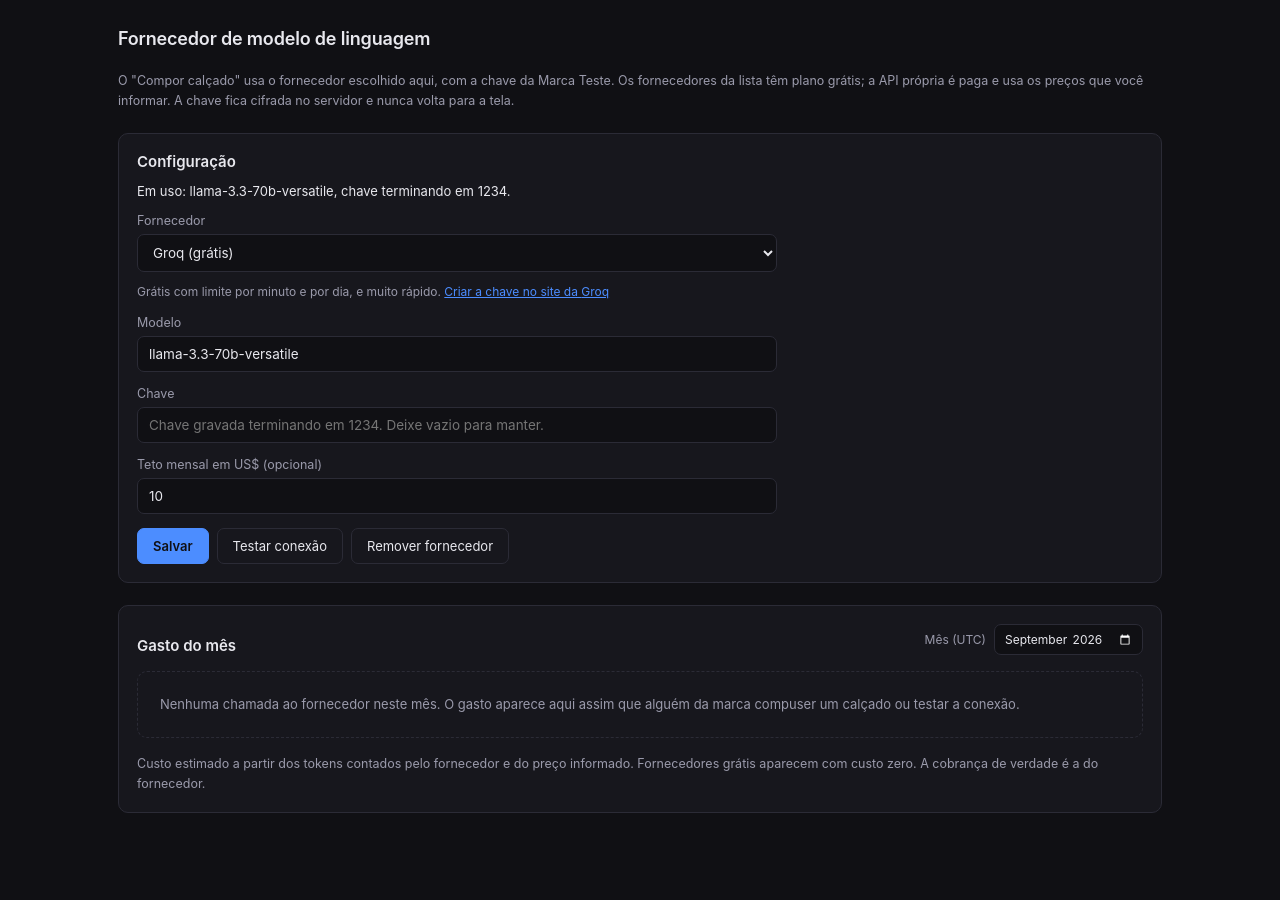
Test: TelaDoFornecedor › a falha do teste aparece com a mensagem do servidor e a configuração continua na tela
Click the button "Testar conexão" at [280, 546], box top-left (217, 528), bottom-right (343, 564)
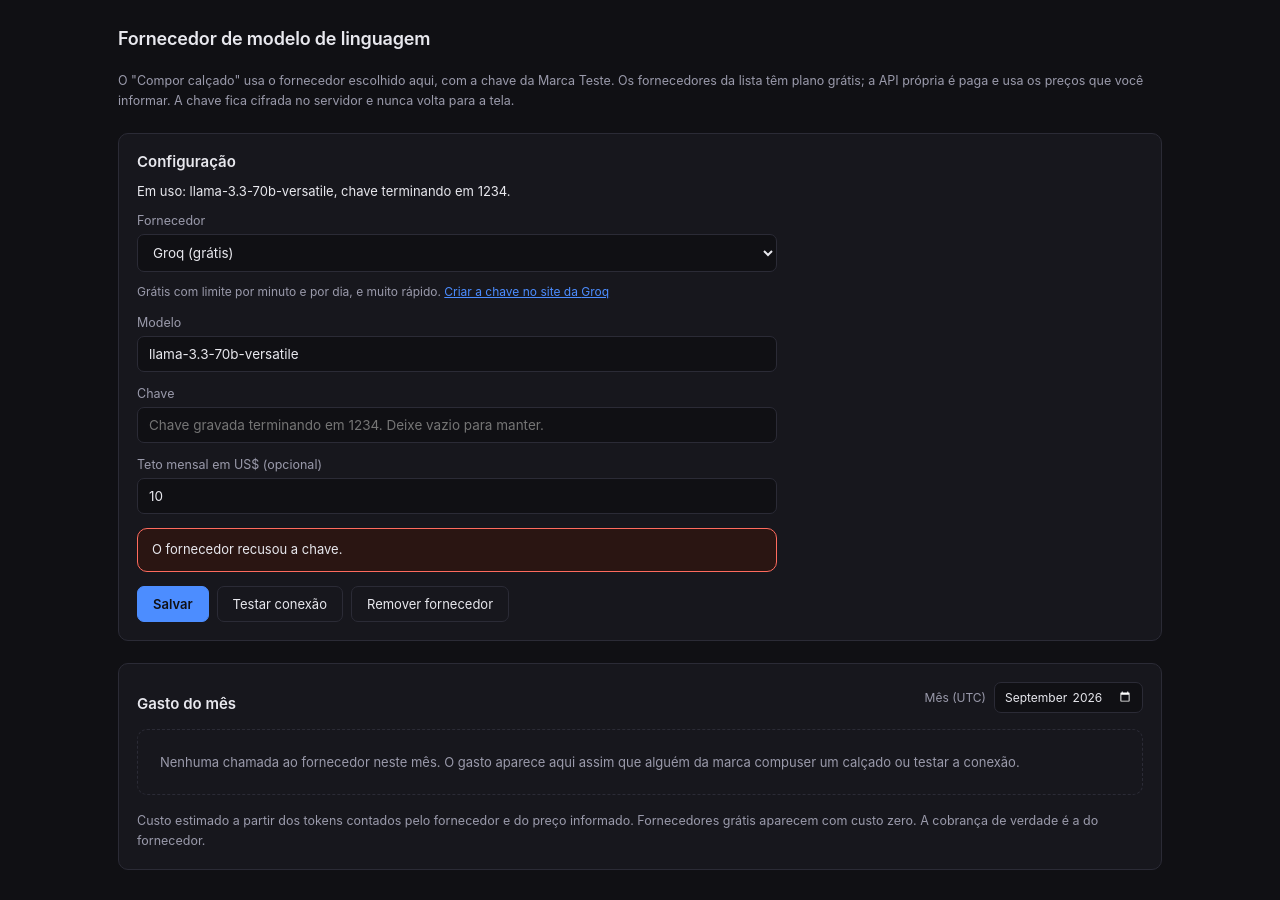
Expected: the text "Em uso: llama-3.3-70b-versatile" is shown, top-left (137, 183), bottom-right (511, 199)
Expected: the message "O fornecedor recusou a chave." is shown, top-left (137, 528), bottom-right (777, 572)
